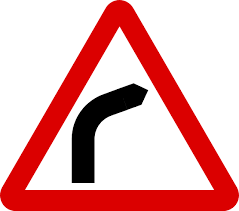Bend_to_right: (2, 1, 236, 211)
